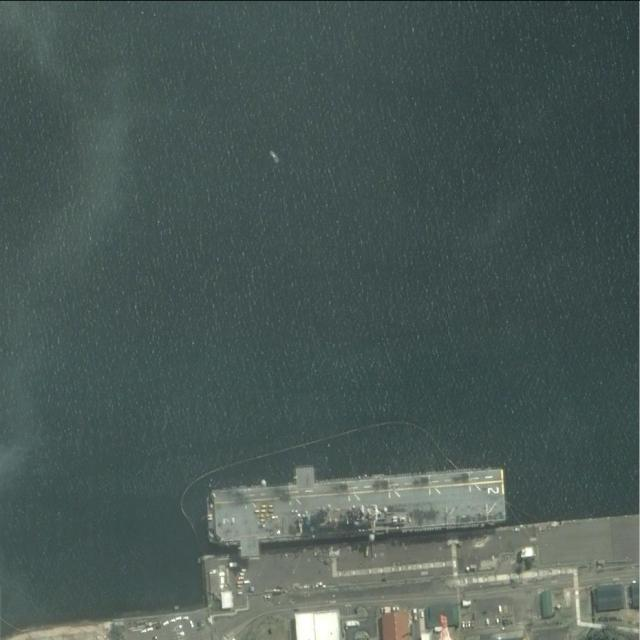Landing: (209, 465, 506, 550)
